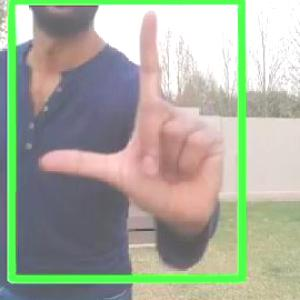land_hand: (36, 4, 226, 220)
